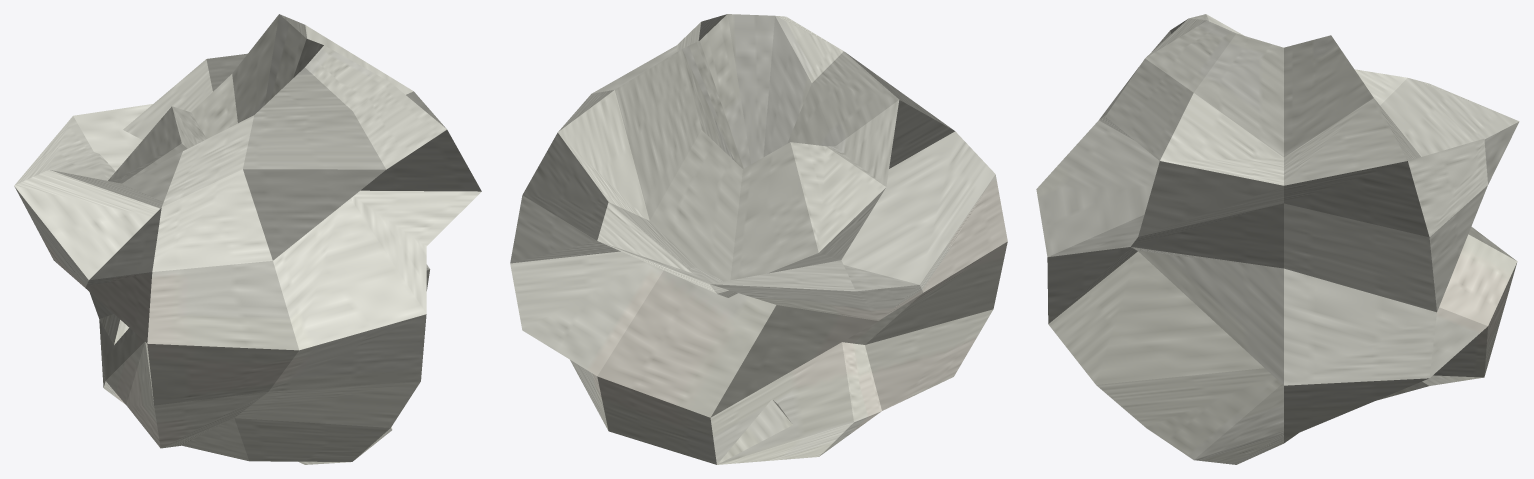
File: crashed_paper.fbx
3 renders of one model, left to right at view 1: azimuth 30°, elevation 25°; view 2: azimuth 150°, elevation 25°; view 3: azimuth 270°, elevation 25°, orthographic. The views are drawn at different scales.
Visible parts, largest first — view 1: earth3; view 2: earth3; view 3: earth3.
Part boxes in pixels (x1,y1,x2,y2): earth3: [14, 14, 481, 464]; earth3: [510, 14, 1007, 464]; earth3: [1036, 14, 1519, 464].
Size of the model in its own units: 11.84 by 13.03 by 13.23.
Materials: 1 (1 with a texture image).
